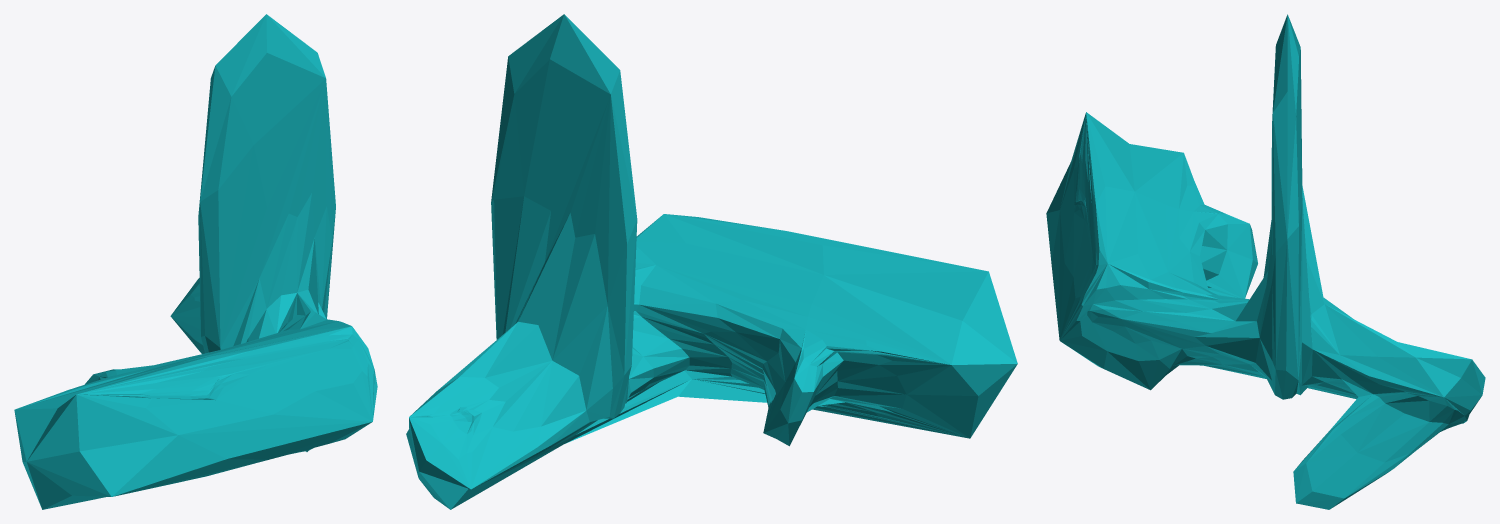
3 renders of one model, left to right at view 1: azimuth 30°, elevation 25°; view 2: azimuth 150°, elevation 25°; view 3: azimuth 270°, elevation 25°, orthographic. The views are drawn at different scales.
Visible parts, largest first — view 1: 913_Cube.3689; view 2: 913_Cube.3689; view 3: 913_Cube.3689.
Part boxes in pixels (box(x1,y1,x2,y2)): 913_Cube.3689: box(14, 14, 377, 509); 913_Cube.3689: box(406, 14, 1017, 509); 913_Cube.3689: box(1046, 14, 1485, 509).
Size of the model in its own units: 14.69 by 15.23 by 13.3.
